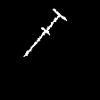double_crochet: (24, 9, 66, 56)
